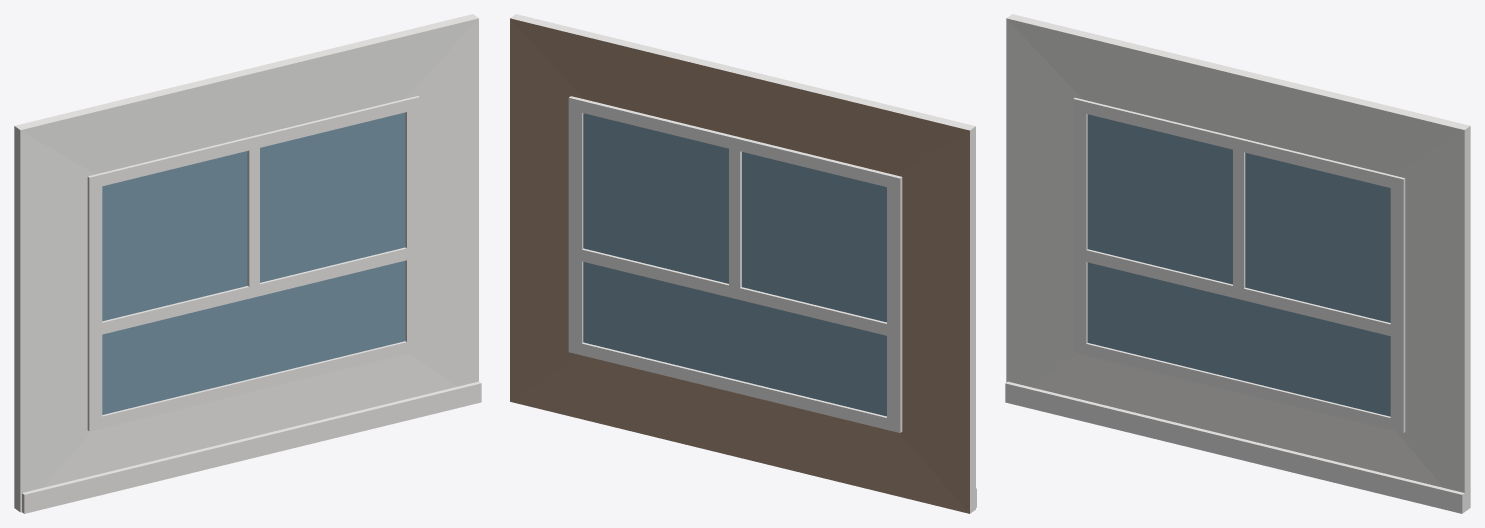
The model's file is Wall_6.fbx.
3 views of the same model, side by side, from view 1: azimuth 30°, elevation 25°; view 2: azimuth 150°, elevation 25°; view 3: azimuth 330°, elevation 25° (orthographic).
Visible parts, largest first — view 1: Wall_6; view 2: Wall_6; view 3: Wall_6.
Part boxes in pixels (x1=…): Wall_6: x1=14, y1=14, x2=481, y2=513; Wall_6: x1=510, y1=14, x2=976, y2=513; Wall_6: x1=1005, y1=14, x2=1470, y2=513.
Bounding box in the file's own units: 489 × 18.48 × 390.
